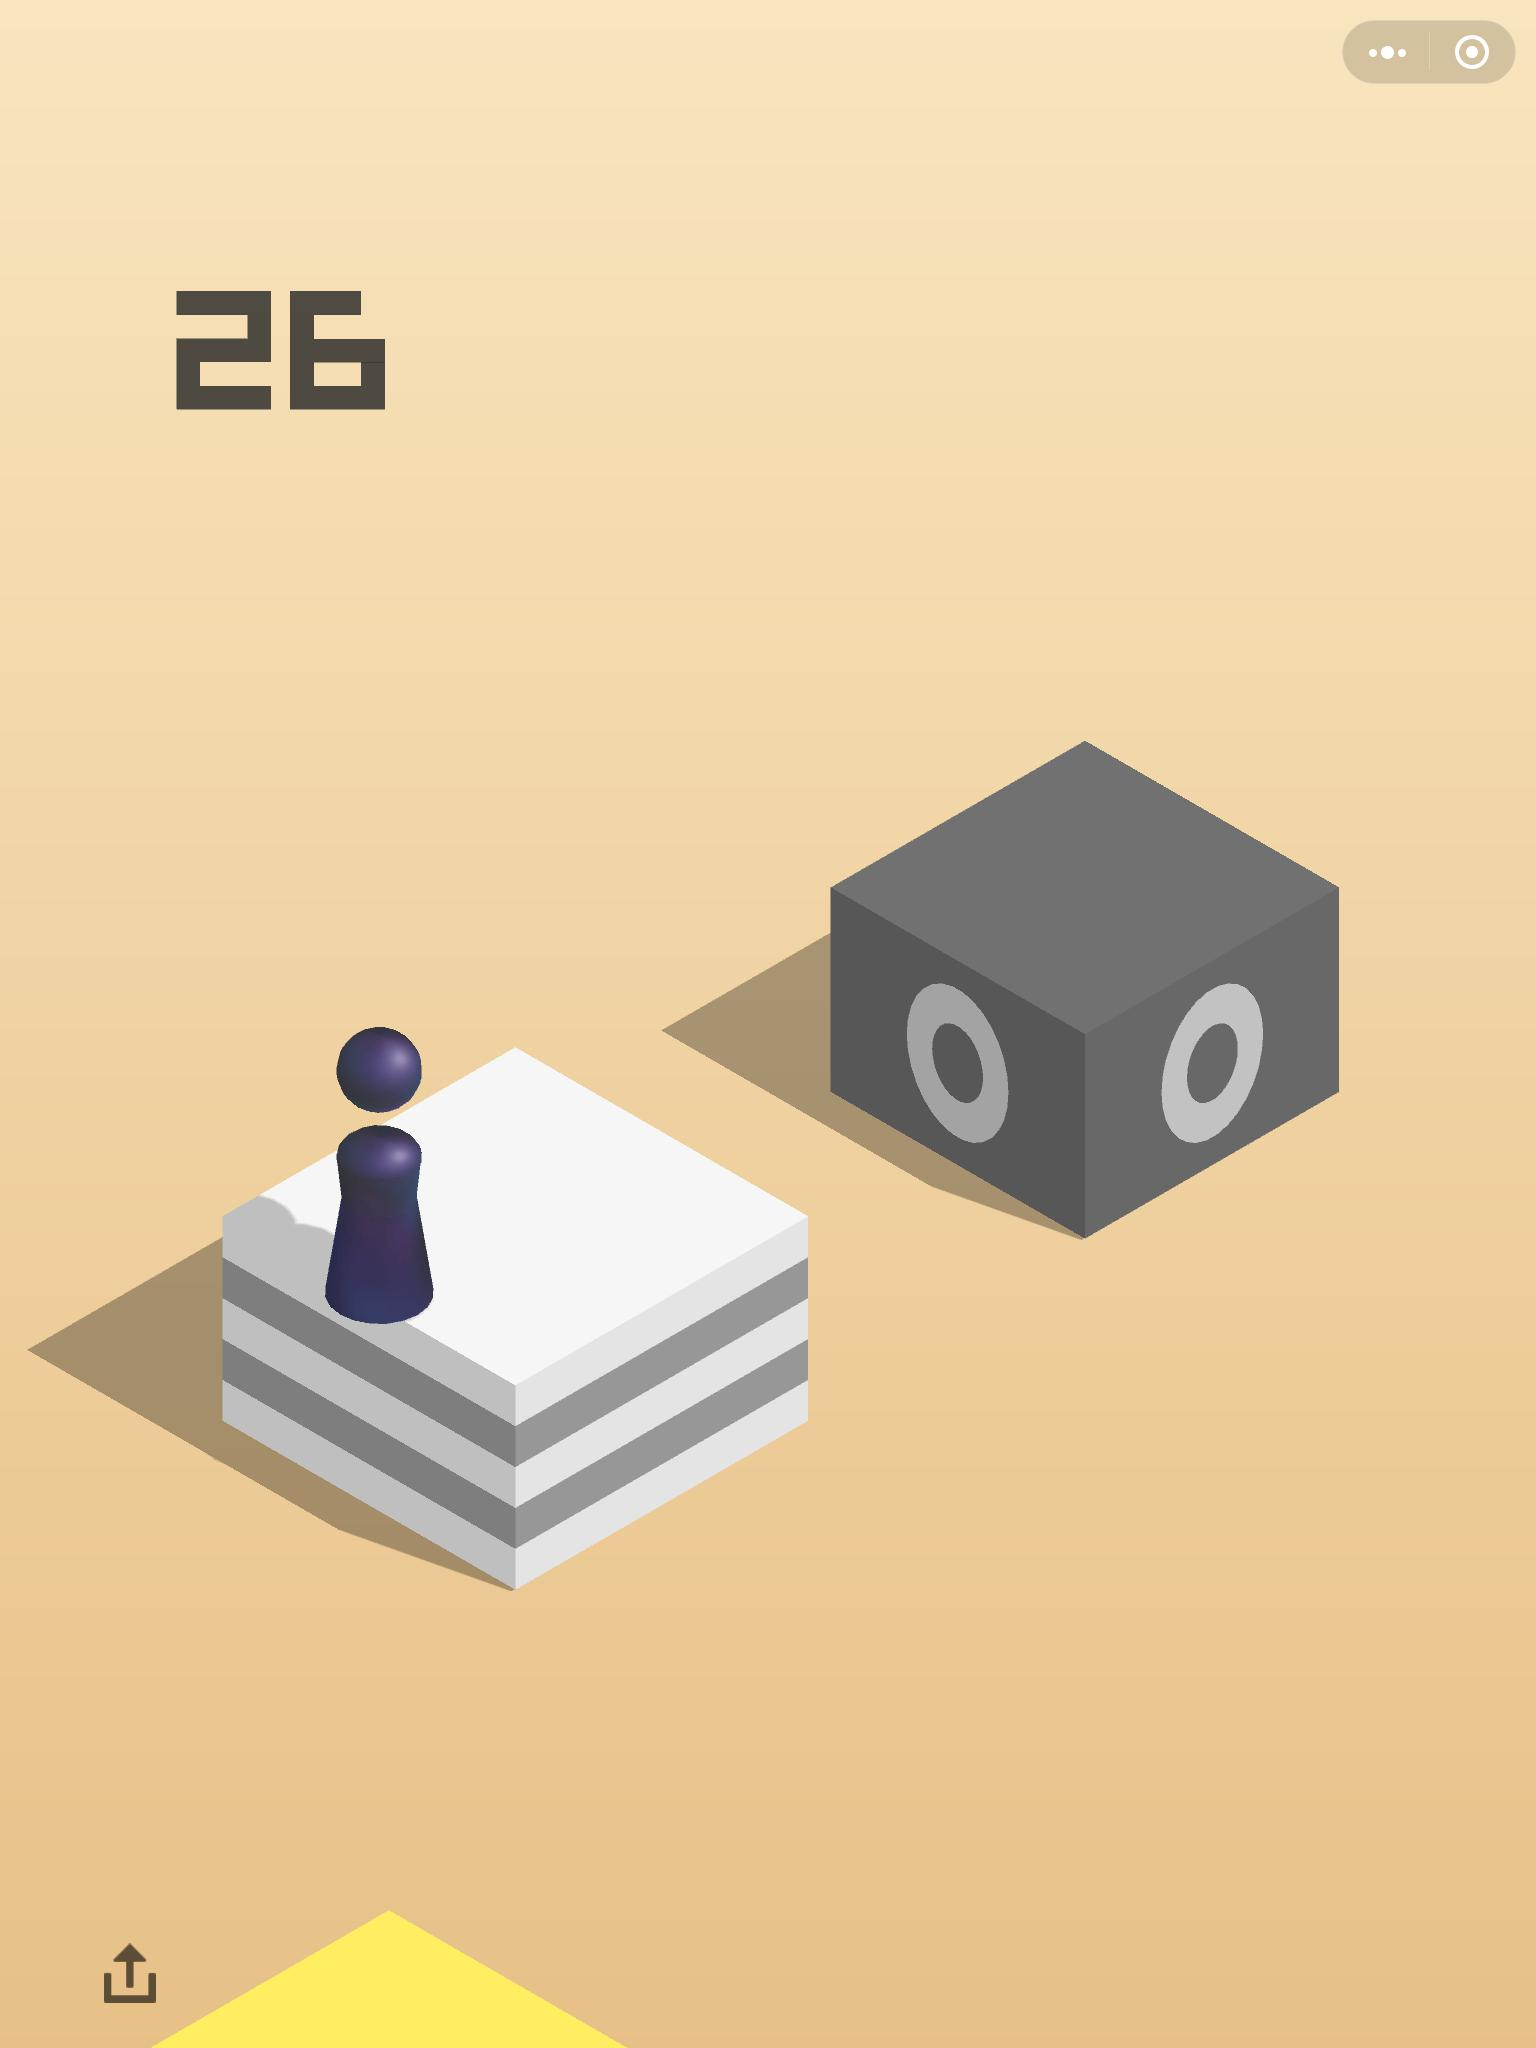f: (213, 1024, 829, 1592), (815, 714, 1359, 1250)
r: (316, 1011, 452, 1335)
